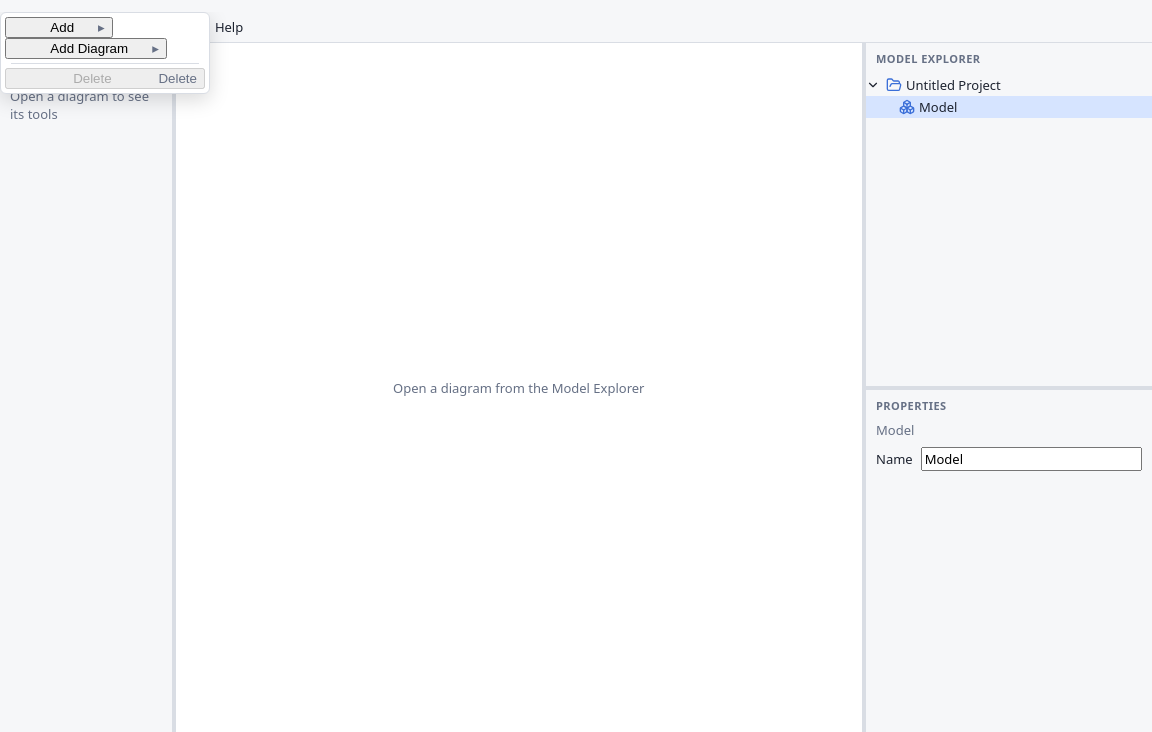
Shell › adds a package from the right-click menu of a tree item
Click the menu item "Add ▸". click: (59, 28)
box: [5, 17, 113, 38]
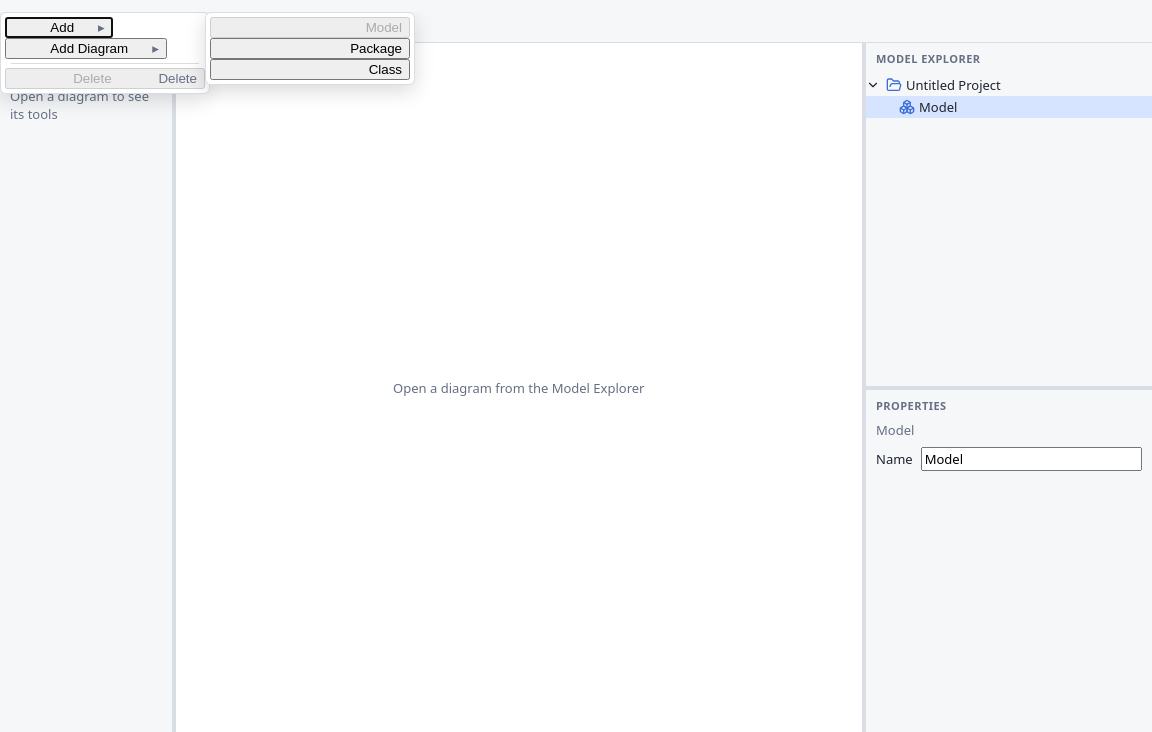
Click the menu item "Package". click: (310, 48)
box: [210, 38, 410, 59]
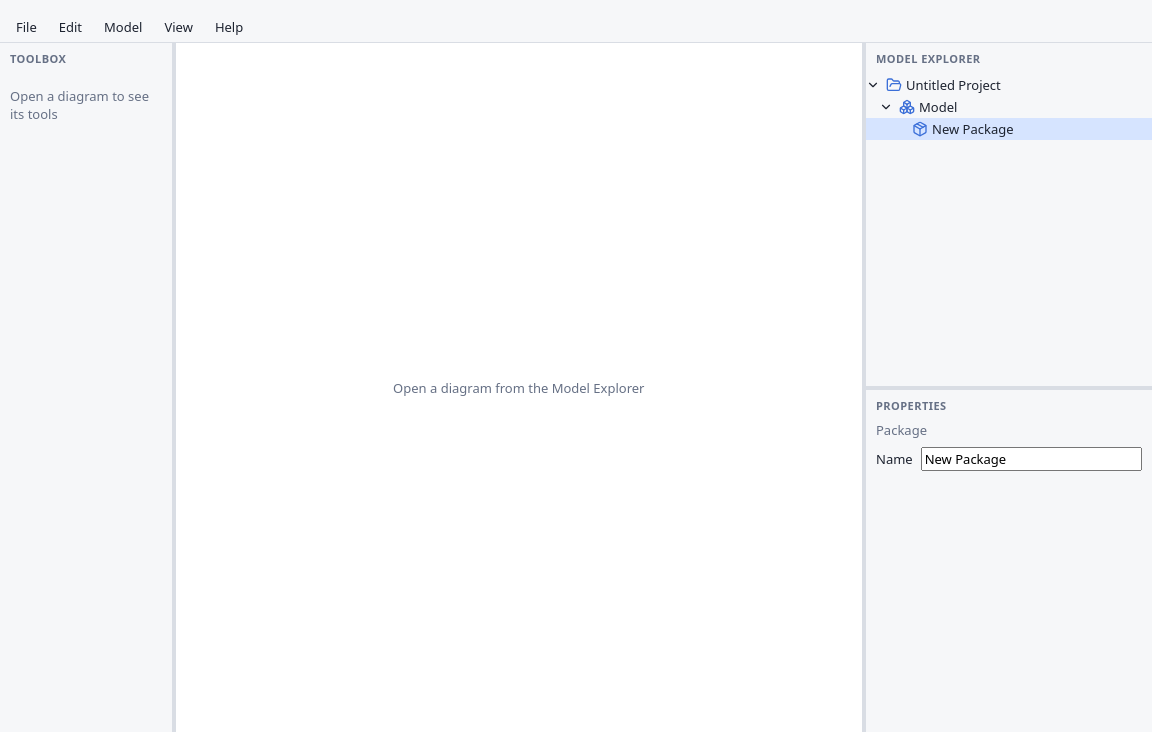
Check: the list item "New Package" is shown, box [866, 118, 1151, 140]
